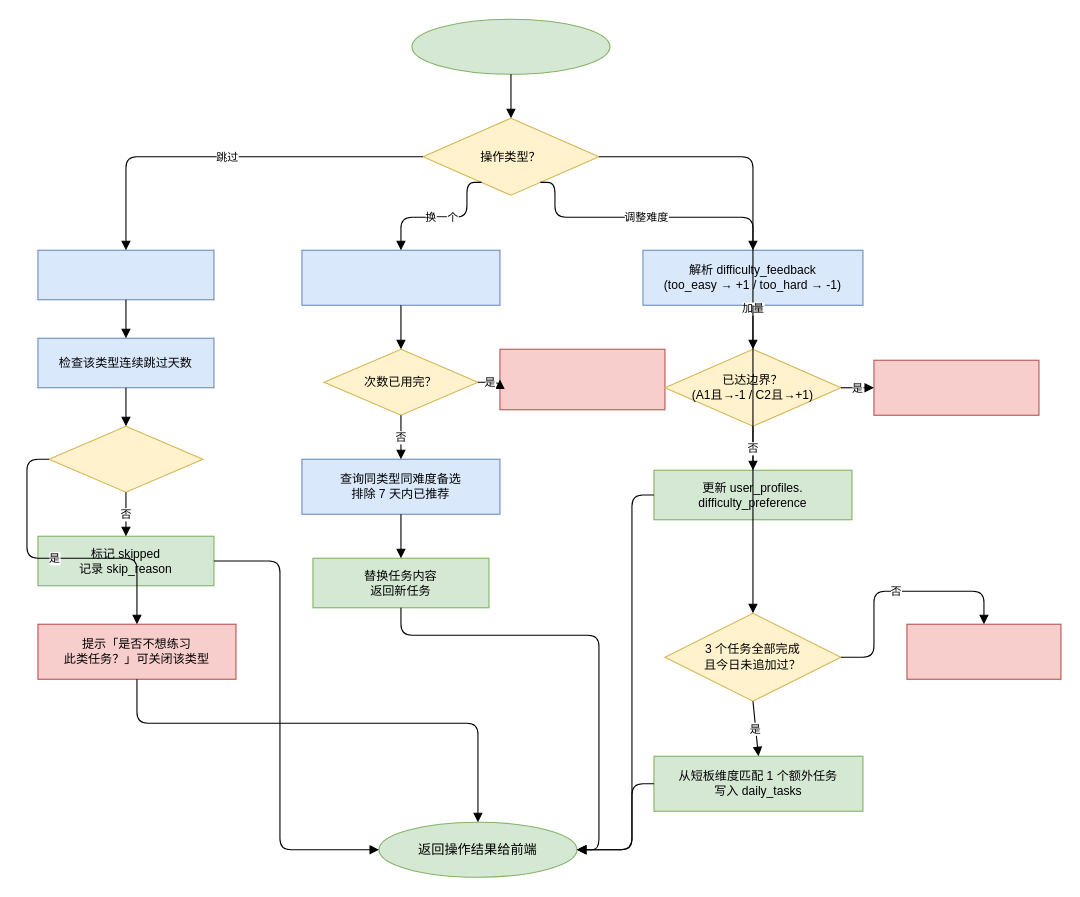
Some shapes in this 1080 by 897 pixel diagram are drawn without their labels. The shapes that lost their labels are listed below. From the top down, each one's centre as x and y in pixels, then its label:
At (510,46): "用户点击任务操作".
At (125,274): "检验 task_id 有效性".
At (400,277): "检验 task_id + 剩余交换次数 (最多 3 次)".
At (582,379): "返回 429 「已无更多备选」".
At (956,387): "提示「当前已是 最低/最高难度」".
At (125,458): "连续≥3天？".
At (983,651): "返回错误提示 （未完成/已追加）".
